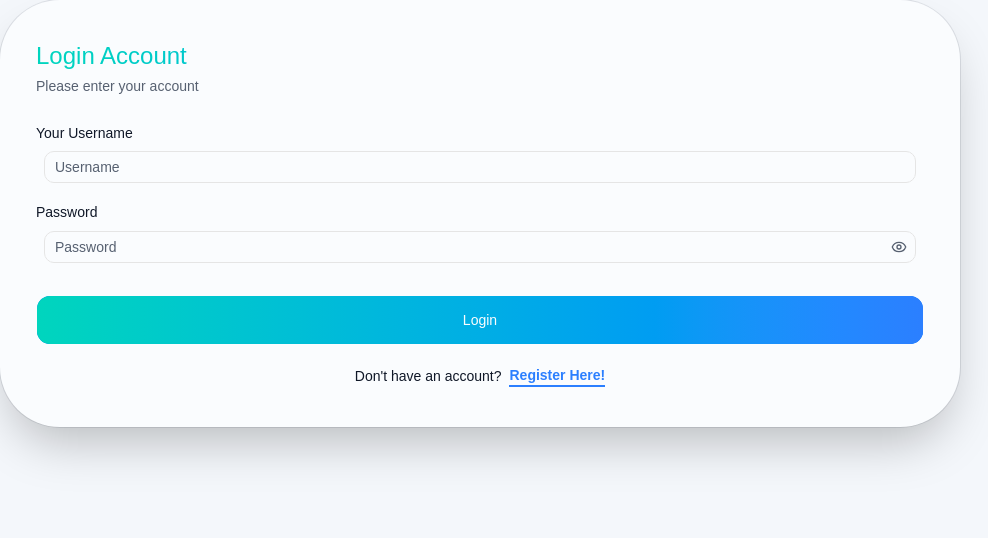
Scenario: Login Page › shows validation errors when submitting empty fields
Click the button "Login": coordinates (480, 320) [36,294,924,344]
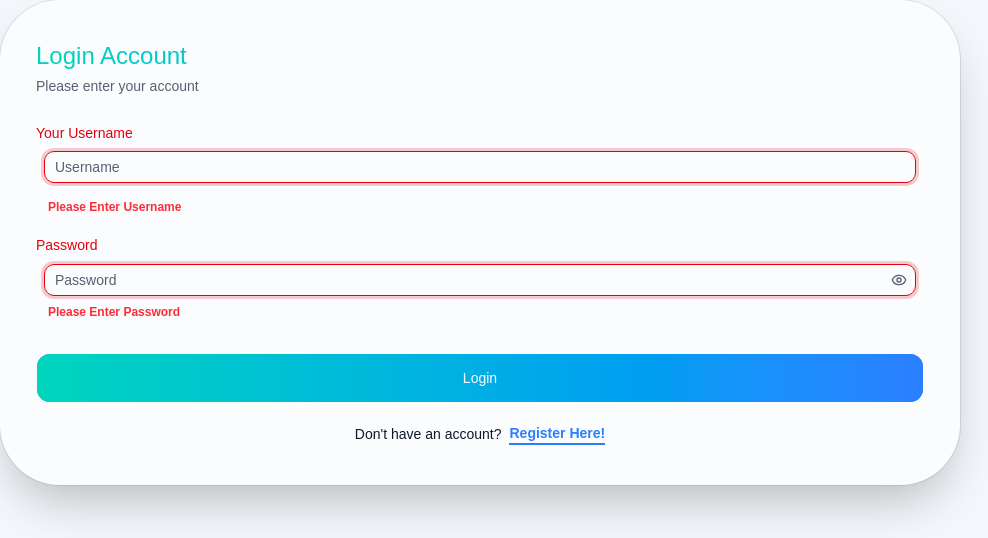
Check: the text "Please Enter Username" is shown, box [48,200,181,214]
Check: the text "Please Enter Password" is shown, box [48,305,180,319]
